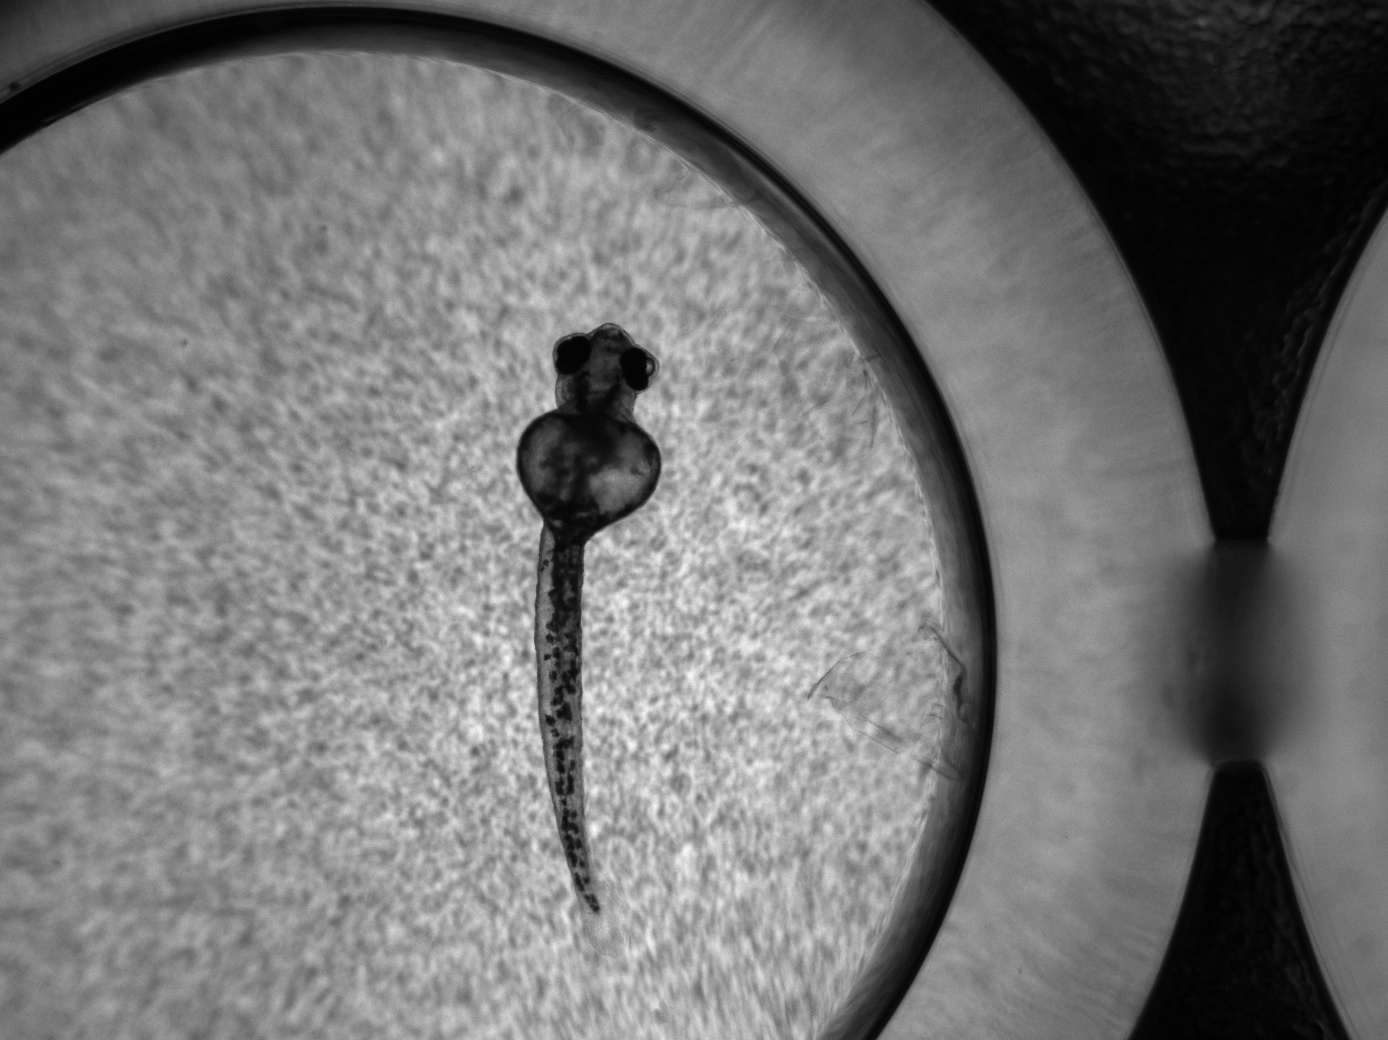embryo: (515, 322, 662, 917)
eye: (619, 346, 657, 391), (551, 335, 592, 375)
yolksac: (517, 409, 663, 533)
